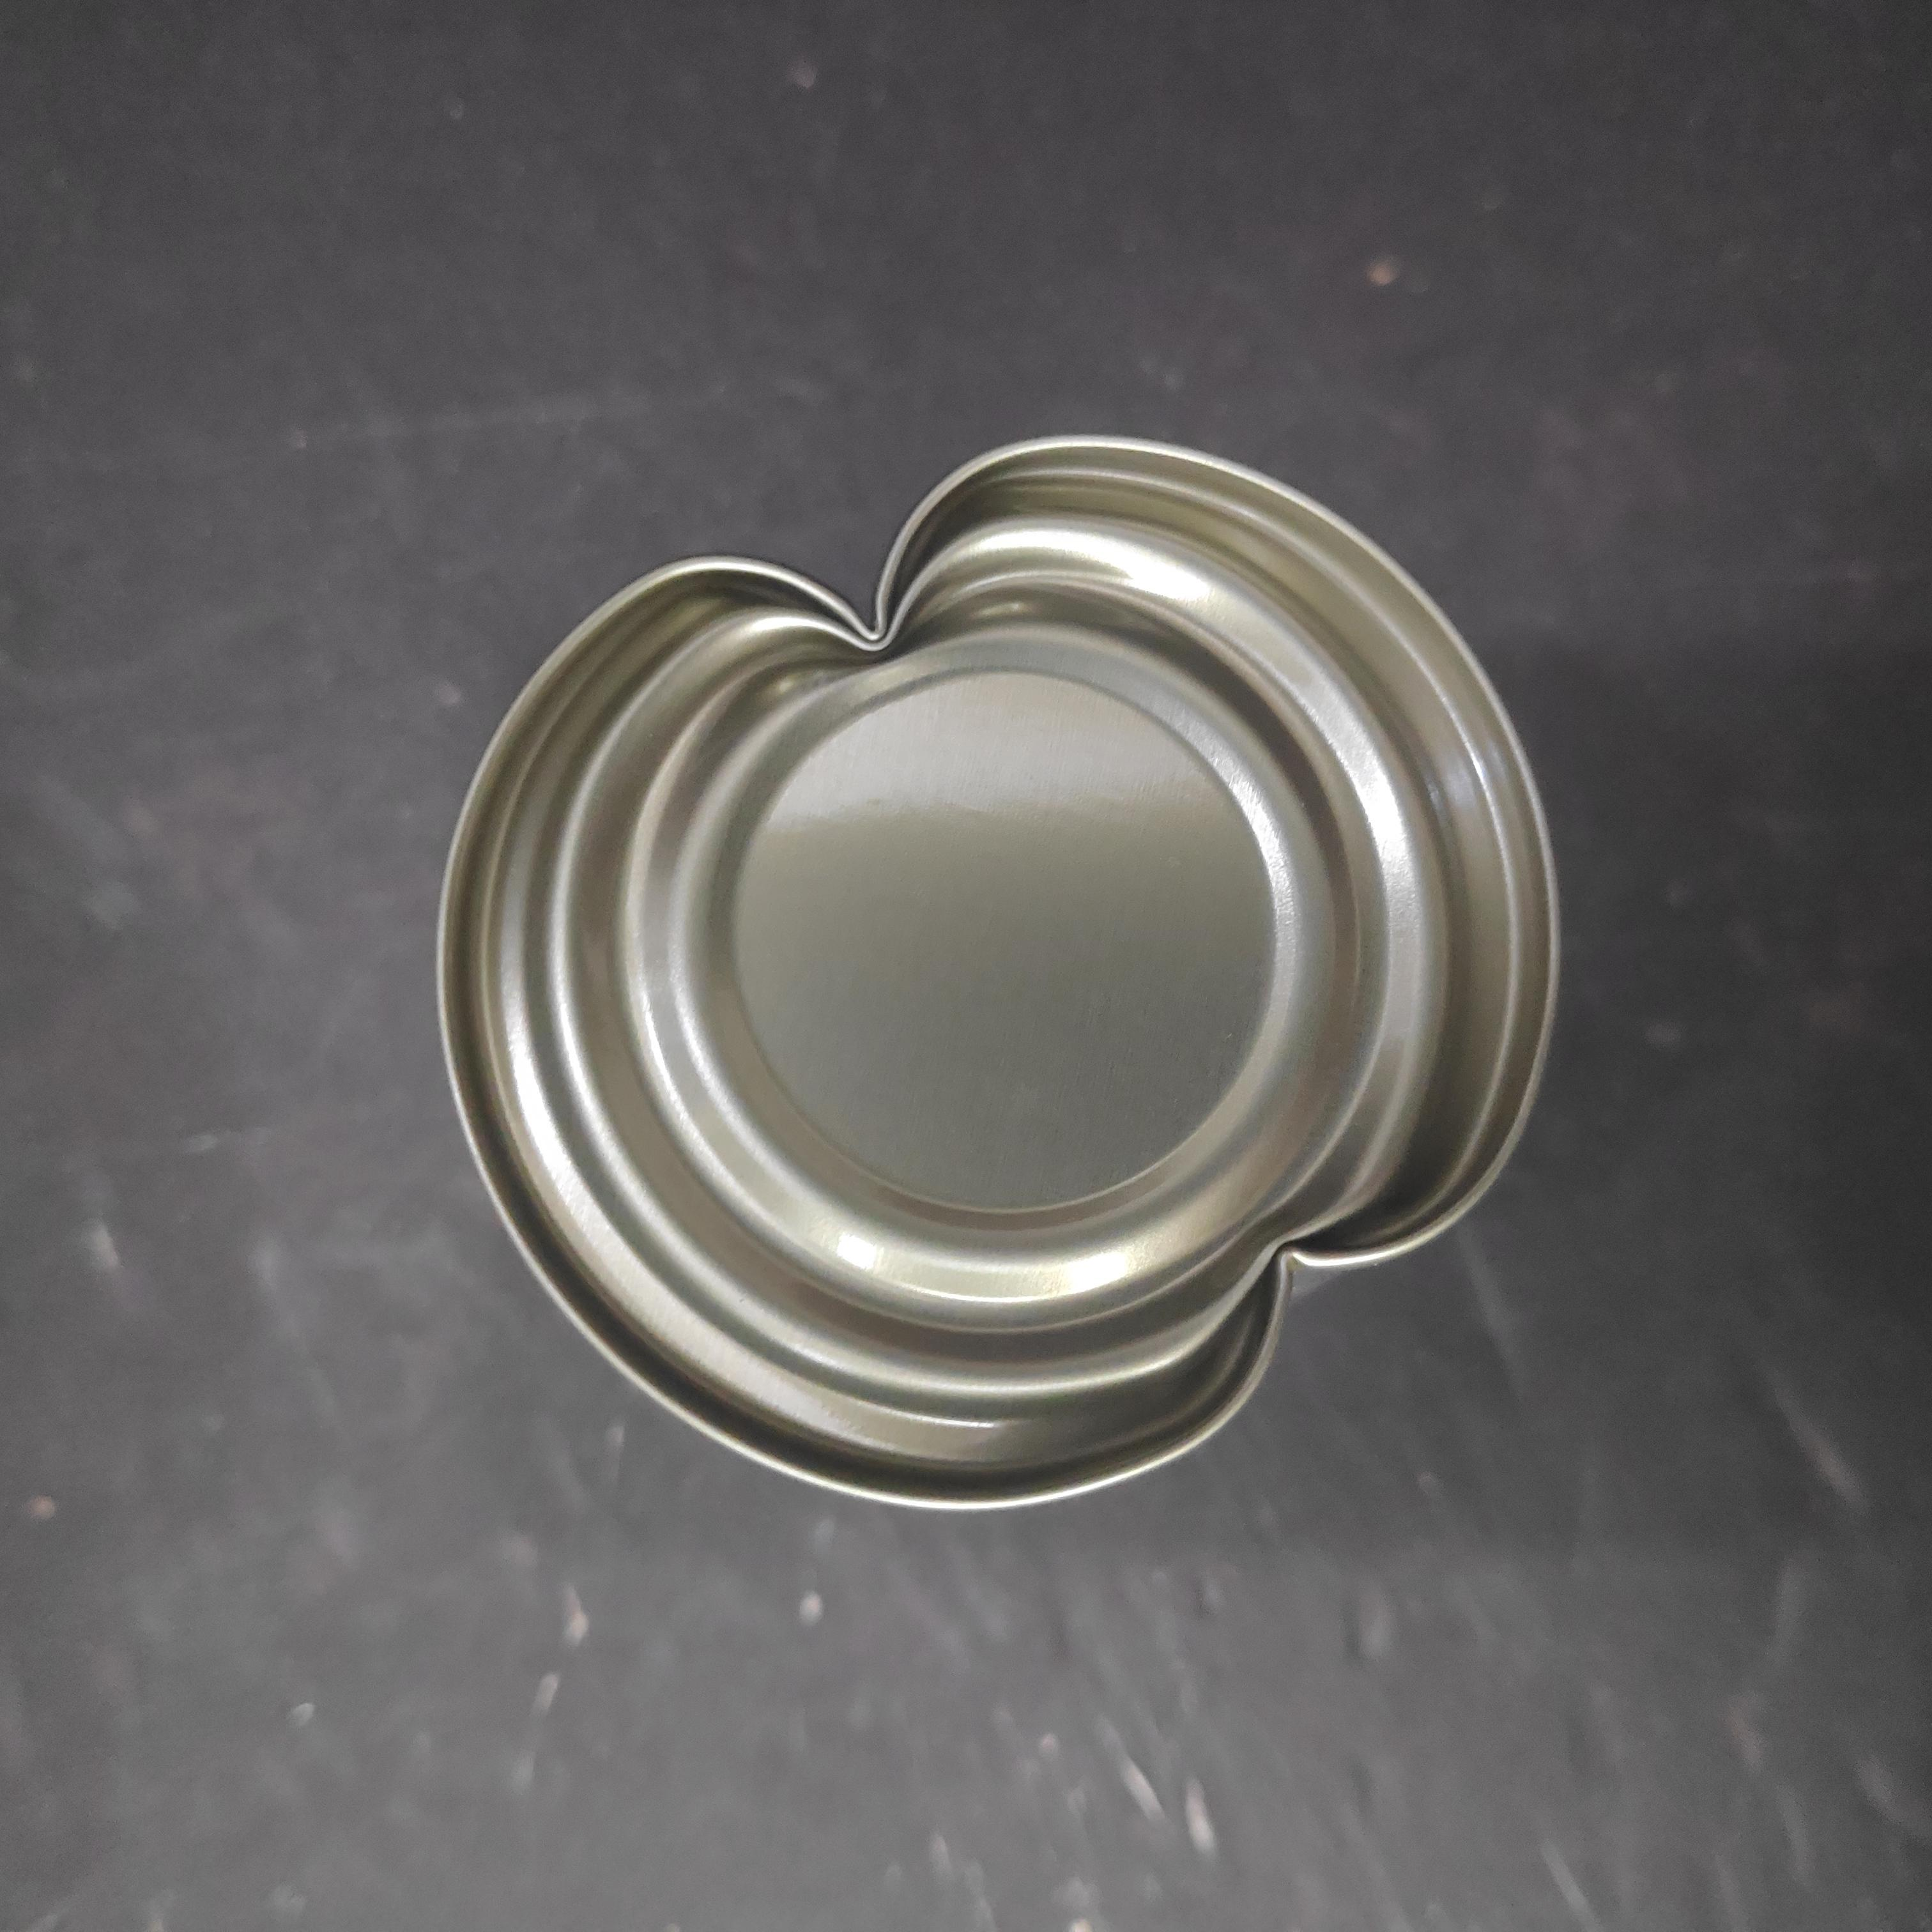Critical Defect: (352, 407, 1511, 1520)
